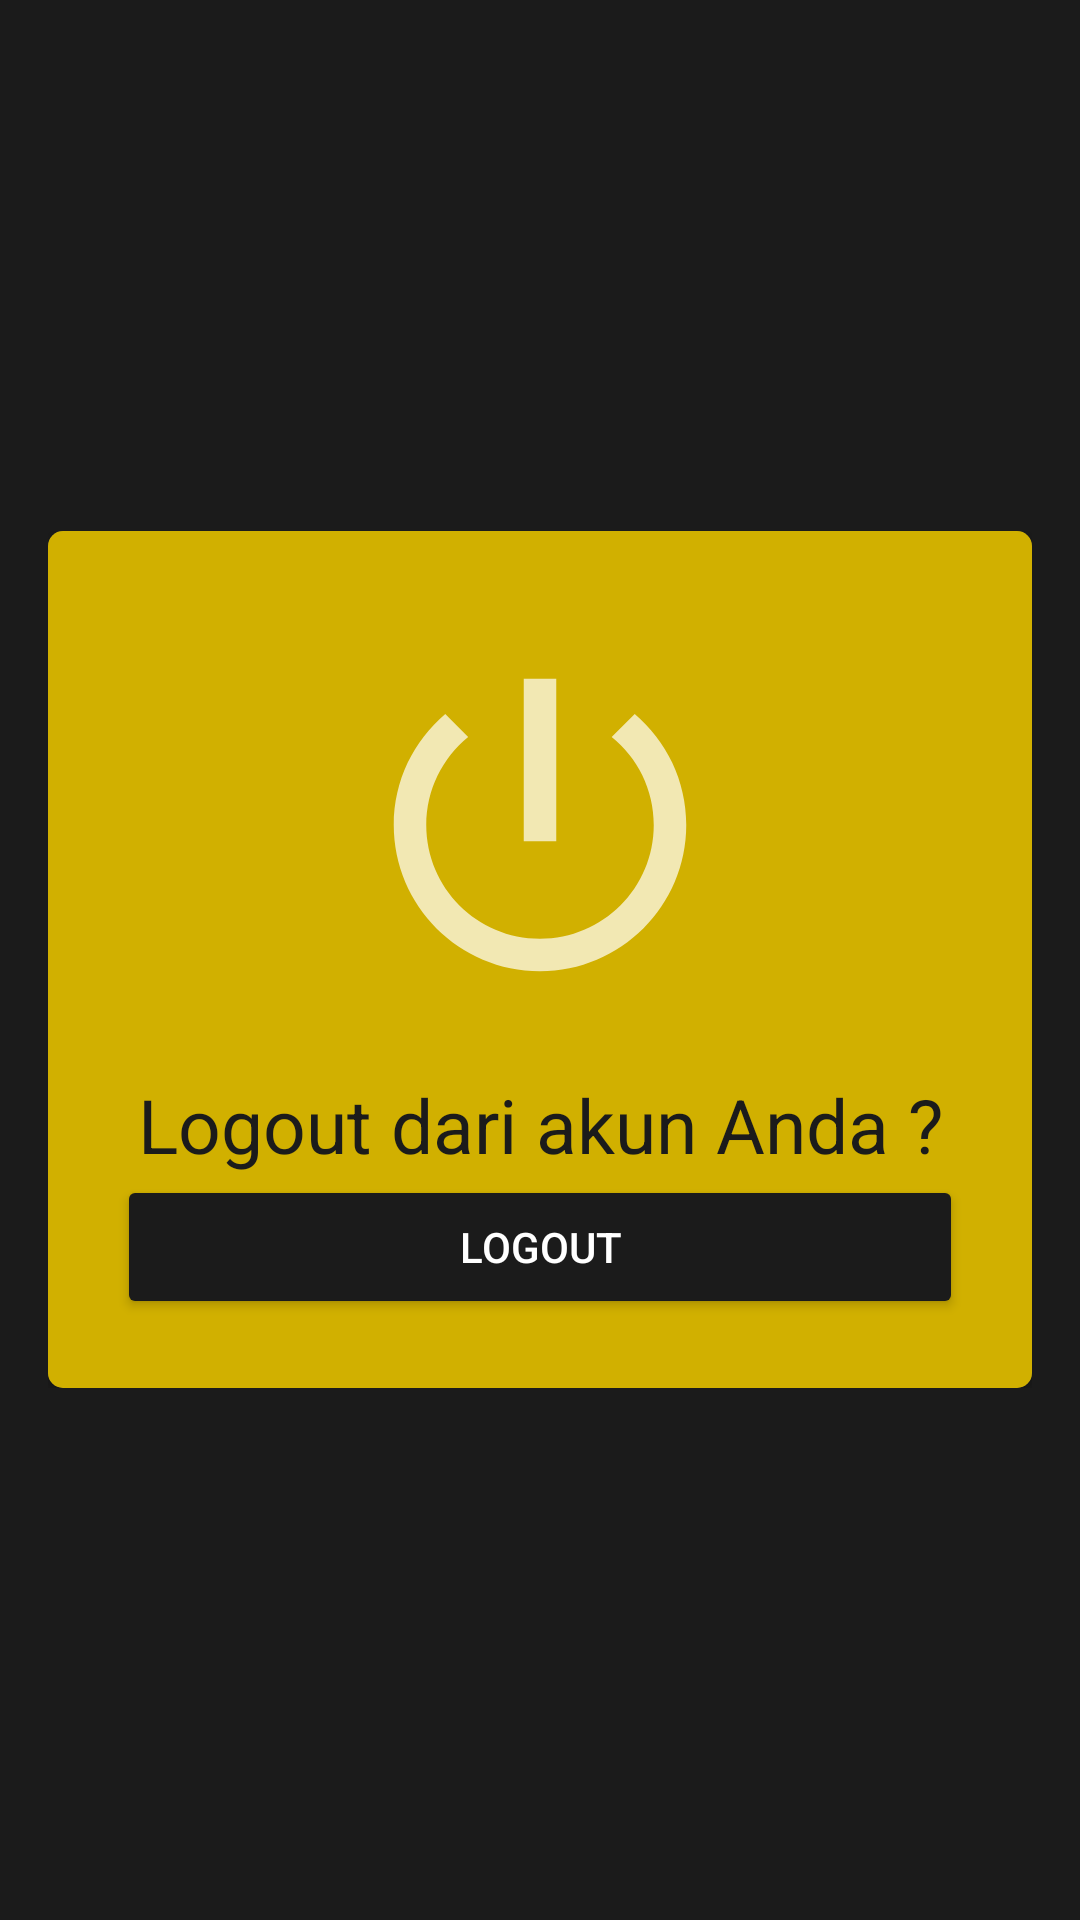

Point at icon controls on the screen. Image size 1080×1920, points as (x=x, y=y).
power settings: (x=540, y=825)
